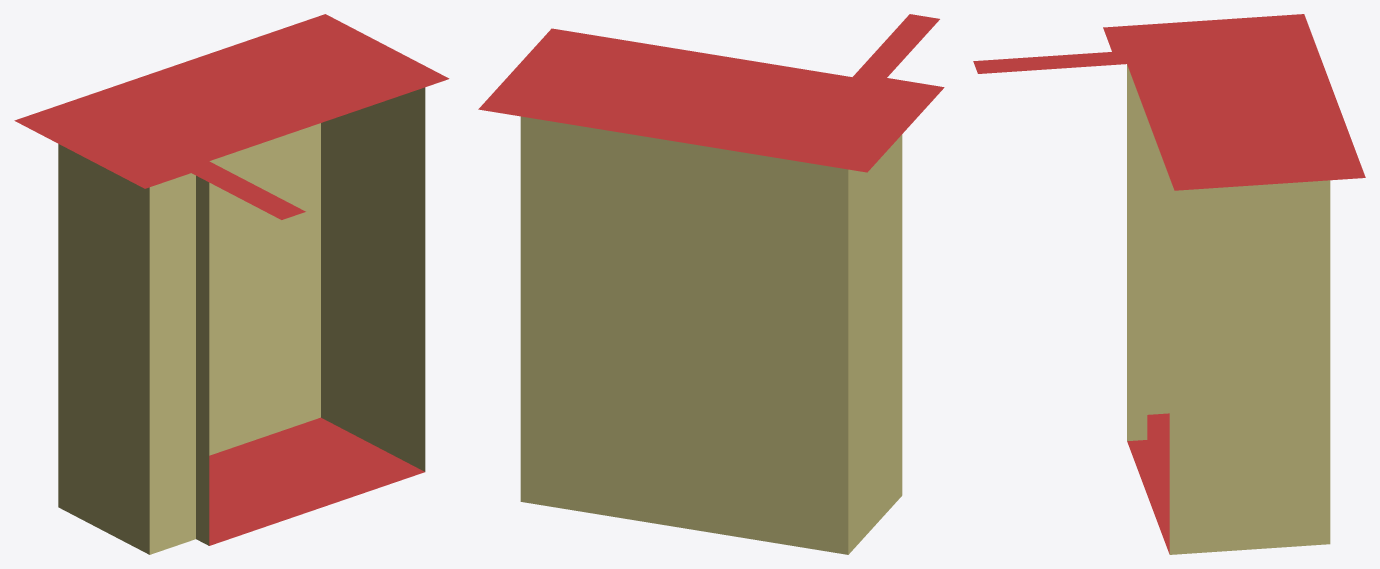
The picture shows the model from 3 angles, left to right: view 1: azimuth 30°, elevation 25°; view 2: azimuth 150°, elevation 25°; view 3: azimuth 270°, elevation 25°; orthographic projection. The views are drawn at different scales.
Size of the model in its own units: 6.77 by 6.35 by 6.73.
